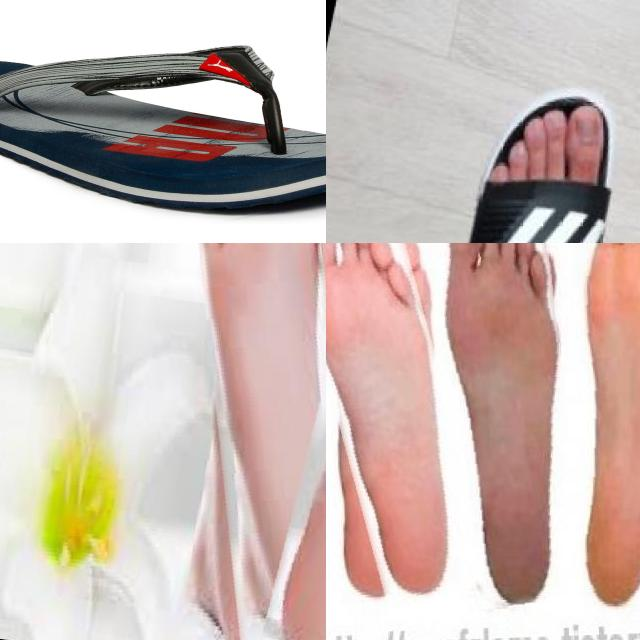Barefoots: (436, 243, 575, 626), (194, 243, 326, 625), (326, 243, 459, 614), (571, 243, 640, 623)
Sandals: (0, 43, 326, 215), (400, 52, 638, 243)
